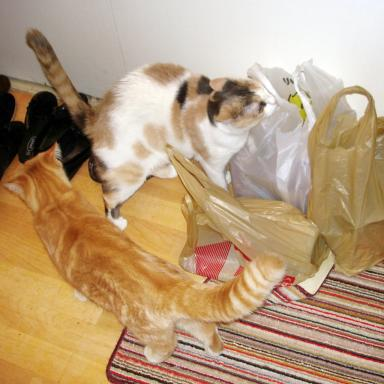plasticbag: (160, 140, 331, 296), (225, 54, 357, 218), (304, 83, 384, 276)
